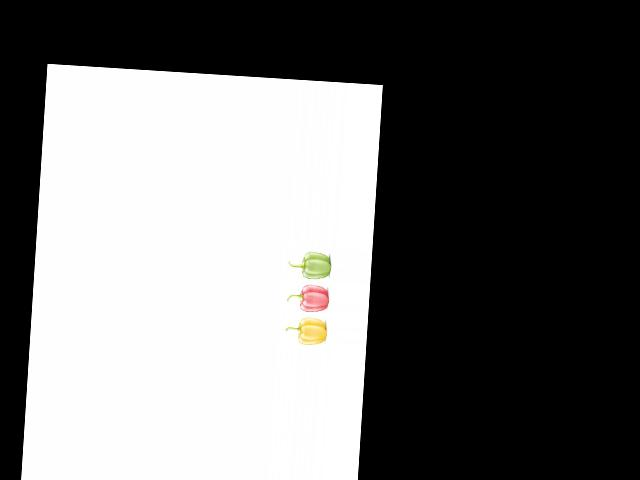bell_pepper: (287, 247, 334, 280)
